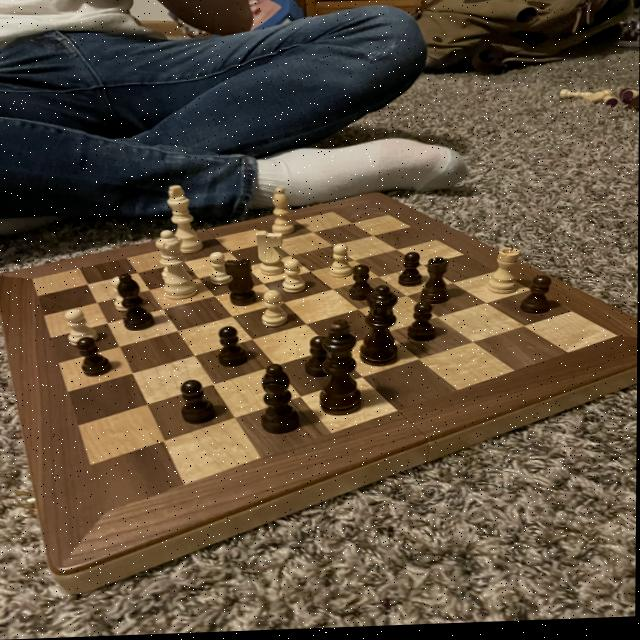bishop: (258, 362, 304, 440), (113, 271, 159, 335)
black-bishop: (317, 318, 365, 421)
black-king: (222, 257, 260, 311)
black-knight: (177, 379, 218, 429), (75, 335, 116, 379), (215, 325, 251, 373), (519, 276, 555, 321), (306, 336, 337, 384), (403, 304, 436, 347), (346, 264, 378, 306), (395, 252, 427, 291)
black-pawn: (358, 286, 400, 372)
black-queen: (418, 257, 453, 311)
black-rook: (269, 187, 298, 241)
white-bishop: (165, 183, 207, 257)
white-king: (254, 229, 288, 282)
white-knight: (62, 307, 100, 349), (259, 290, 291, 331), (109, 275, 139, 316), (207, 251, 237, 289), (326, 244, 354, 283), (281, 258, 307, 296), (159, 250, 175, 283)
white-pawn: (152, 229, 203, 304)
white-queen: (486, 248, 522, 302)
